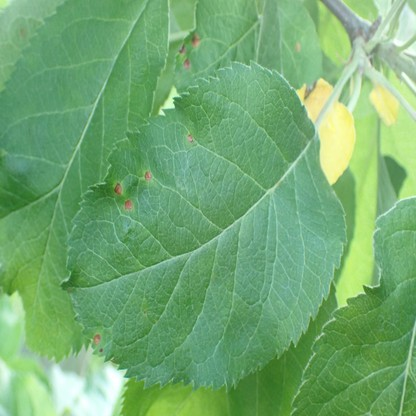frogeye_leaf_spot: (191, 32, 199, 46), (113, 181, 121, 193), (144, 170, 152, 181), (93, 333, 100, 345), (124, 199, 133, 208), (295, 41, 300, 53), (184, 59, 190, 69), (180, 43, 185, 54), (186, 134, 193, 141)
